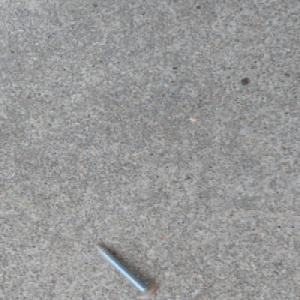Screw: (92, 243, 157, 299)
